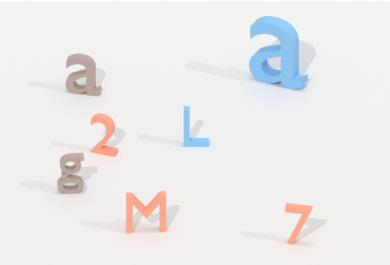2: (89, 110, 120, 159)
7: (282, 200, 315, 248)
L: (178, 103, 214, 152)
M: (122, 188, 171, 237)
a: (246, 14, 312, 95), (61, 51, 105, 98)
g: (55, 151, 87, 196)
